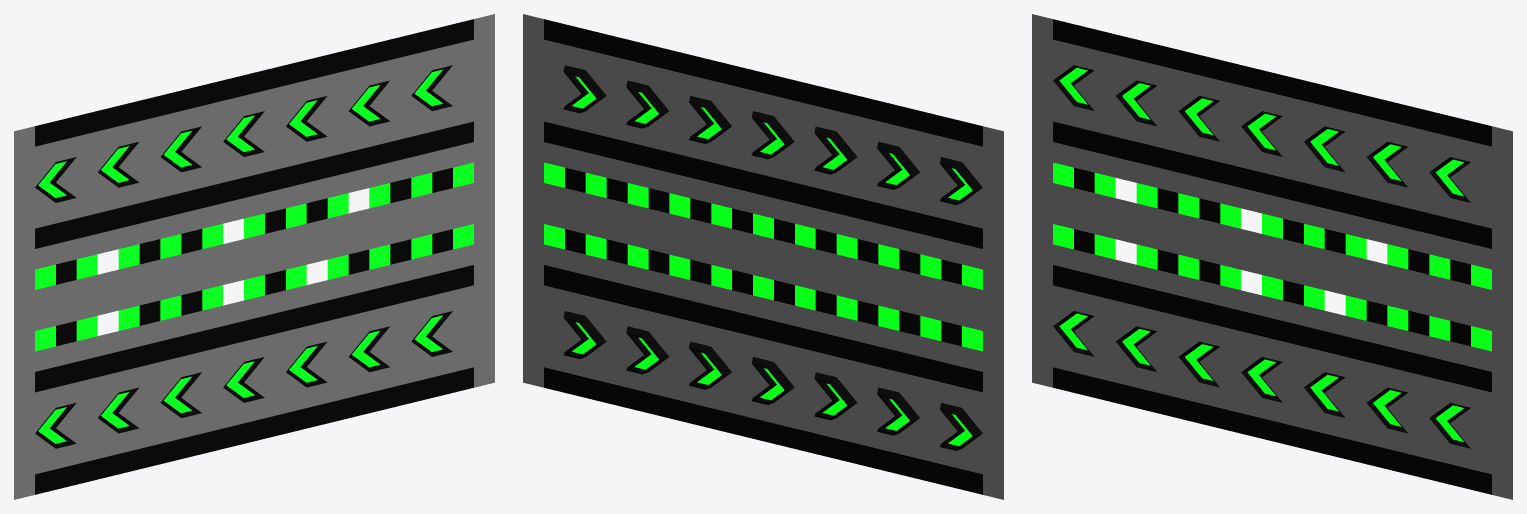
Rendered from WallTile6.fbx.
3 renders of one model, left to right at view 1: azimuth 30°, elevation 25°; view 2: azimuth 150°, elevation 25°; view 3: azimuth 330°, elevation 25°, orthographic.
Visible parts, largest first — view 1: Plane007; view 2: Plane007; view 3: Plane007.
Part boxes in pixels (left/top/right/bottom): Plane007: left=14, top=14, right=494, bottom=499; Plane007: left=523, top=14, right=1003, bottom=499; Plane007: left=1032, top=14, right=1512, bottom=499.
Bounding box in the file's own units: 938 × 687 × 18.21.
